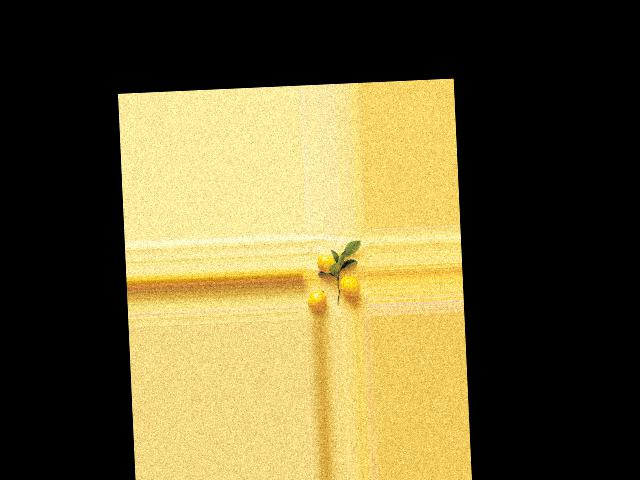lemon: (306, 288, 328, 314)
